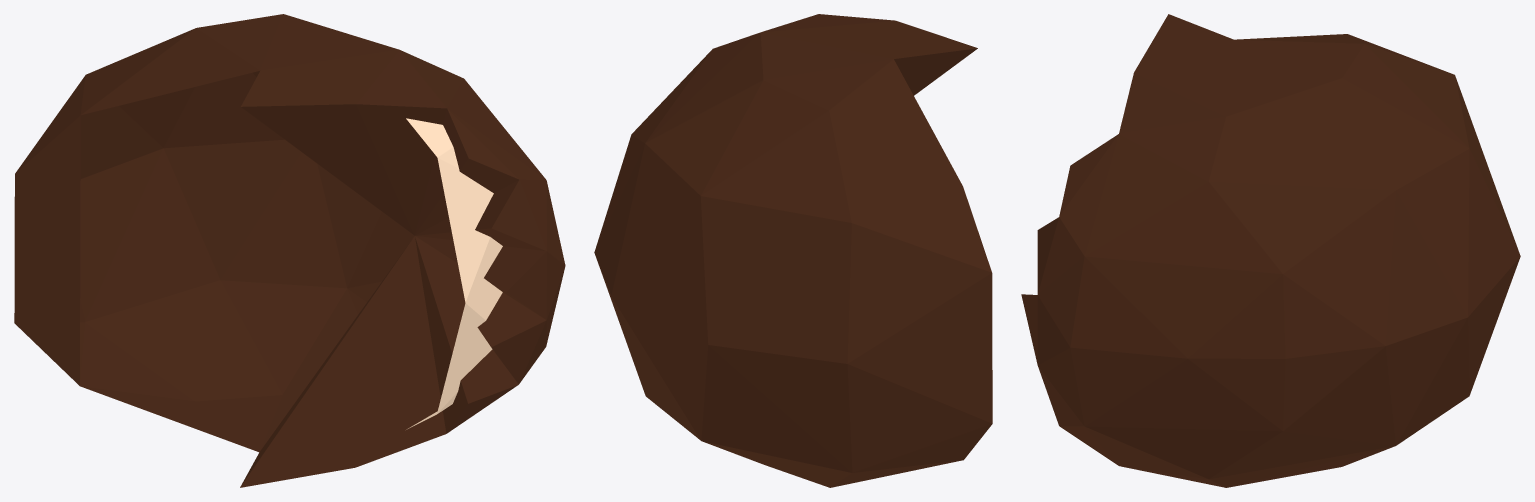
The model's file is hair14.glb.
3 renders of one model, left to right at view 1: azimuth 30°, elevation 25°; view 2: azimuth 150°, elevation 25°; view 3: azimuth 270°, elevation 25°, orthographic. The views are drawn at different scales.
Visible parts, largest first — view 1: tomodachi-2026-03-13-22-18-02-024, tomodachi-2026-03-13-22-18-02-024.008; view 2: tomodachi-2026-03-13-22-18-02-024; view 3: tomodachi-2026-03-13-22-18-02-024.
Boxes of the visible parts, x1,y1,x2,y2 form: tomodachi-2026-03-13-22-18-02-024: (14, 14, 565, 487); tomodachi-2026-03-13-22-18-02-024.008: (406, 118, 502, 429); tomodachi-2026-03-13-22-18-02-024: (594, 14, 992, 487); tomodachi-2026-03-13-22-18-02-024: (1021, 14, 1520, 487).
Bounding box in the file's own units: 1.2 × 1.04 × 1.21.
Materials: 2 (2 with a texture image).
